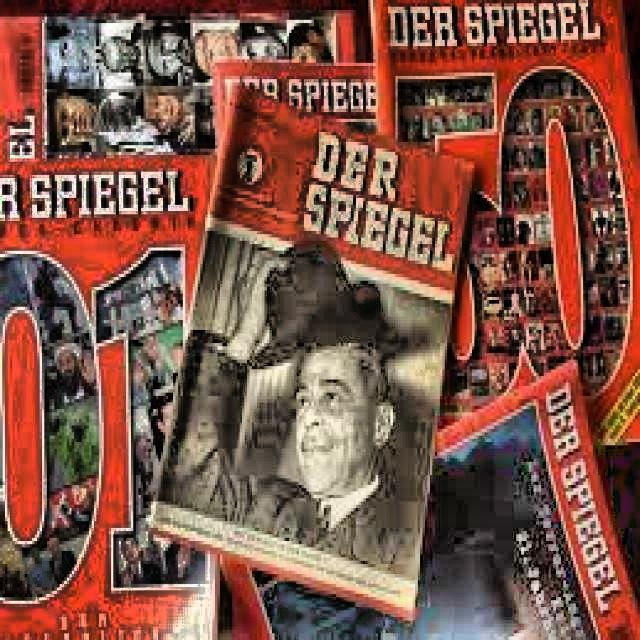Paper: (146, 79, 472, 620), (366, 0, 638, 442), (213, 356, 638, 637), (0, 145, 213, 637), (0, 0, 366, 152)
